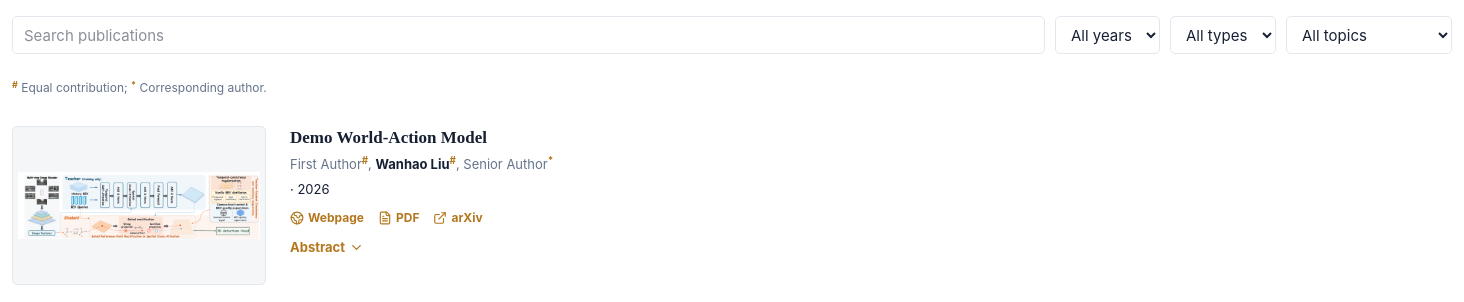
Test: PublicationList › filters publications by search query
The width and height of the screenshot is (1464, 302).
In the search field with placeholder "Search publications": (528, 35) x1=12 y1=16 x2=1045 y2=54, type "unrelated"
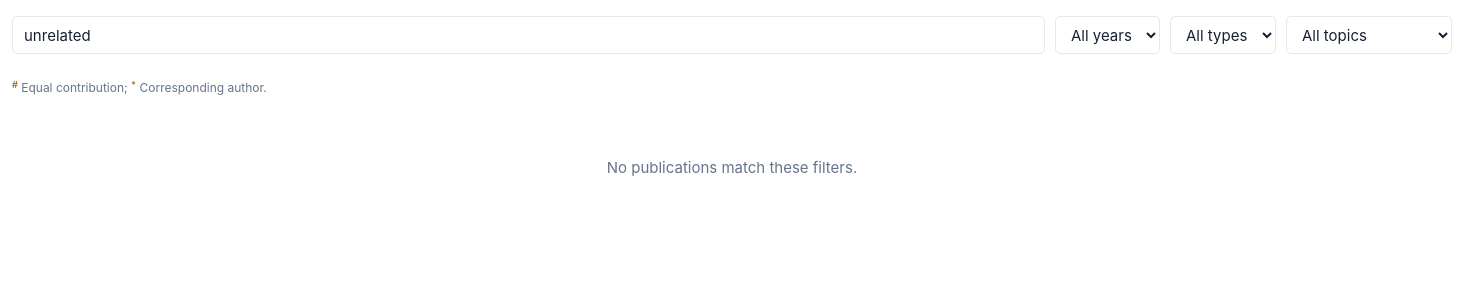
Expected: the text "No publications match these filters." is shown, x1=607 y1=158 x2=857 y2=177
Expected: the link "Demo World-Action Model" is gone
